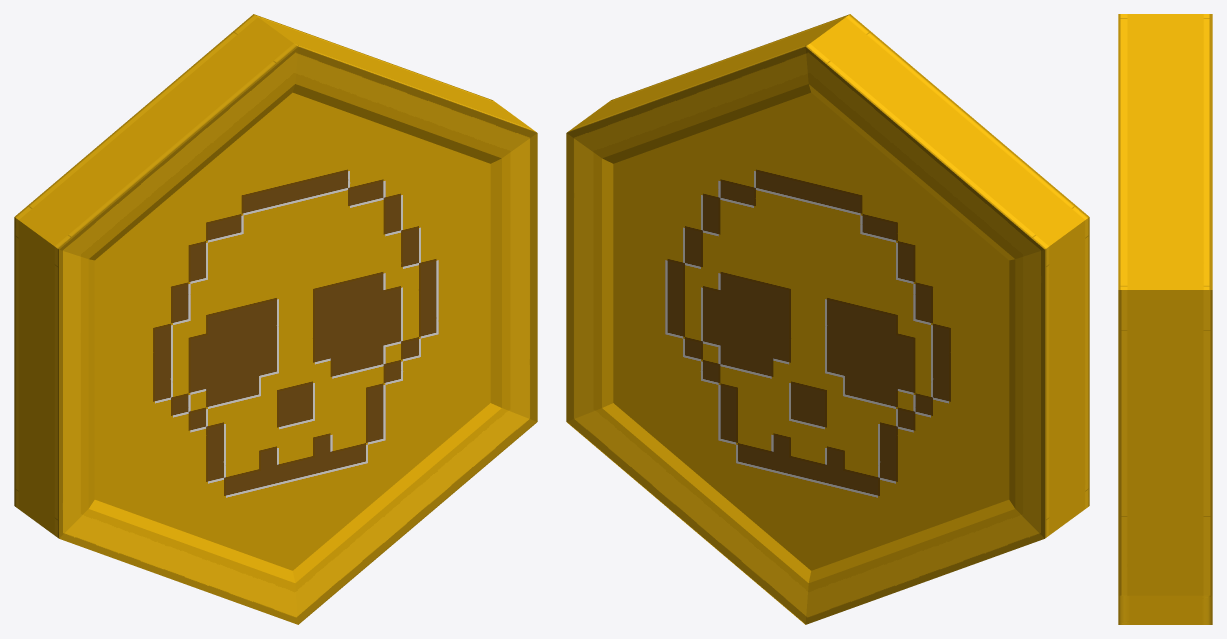
File: coin.obj
The picture shows the model from 3 angles, left to right: view 1: azimuth 30°, elevation 25°; view 2: azimuth 150°, elevation 25°; view 3: azimuth 270°, elevation 25°; orthographic projection. The views are drawn at different scales.
Visible parts, largest first — view 1: Cylinder; view 2: Cylinder; view 3: Cylinder.
Part boxes in pixels (<box>): Cylinder: <box>14,14,537,624</box>; Cylinder: <box>566,14,1089,624</box>; Cylinder: <box>1118,14,1212,624</box>.
Size of the model in its own units: 0.2693 by 0.3109 by 0.0436.
Materials: 1 (1 with a texture image).
